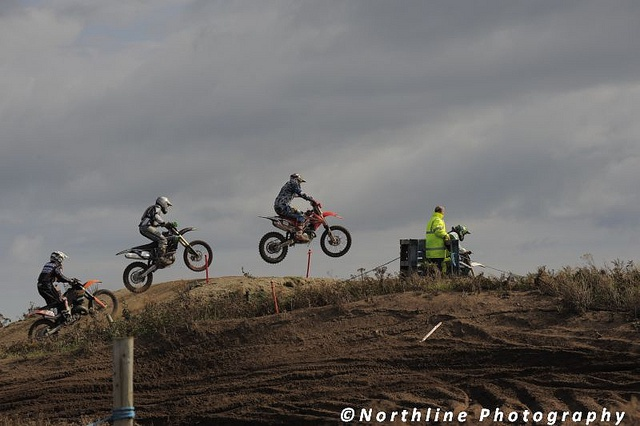non-vehicle: (115, 221, 212, 293), (259, 197, 350, 262), (28, 281, 118, 341), (459, 249, 486, 277)
